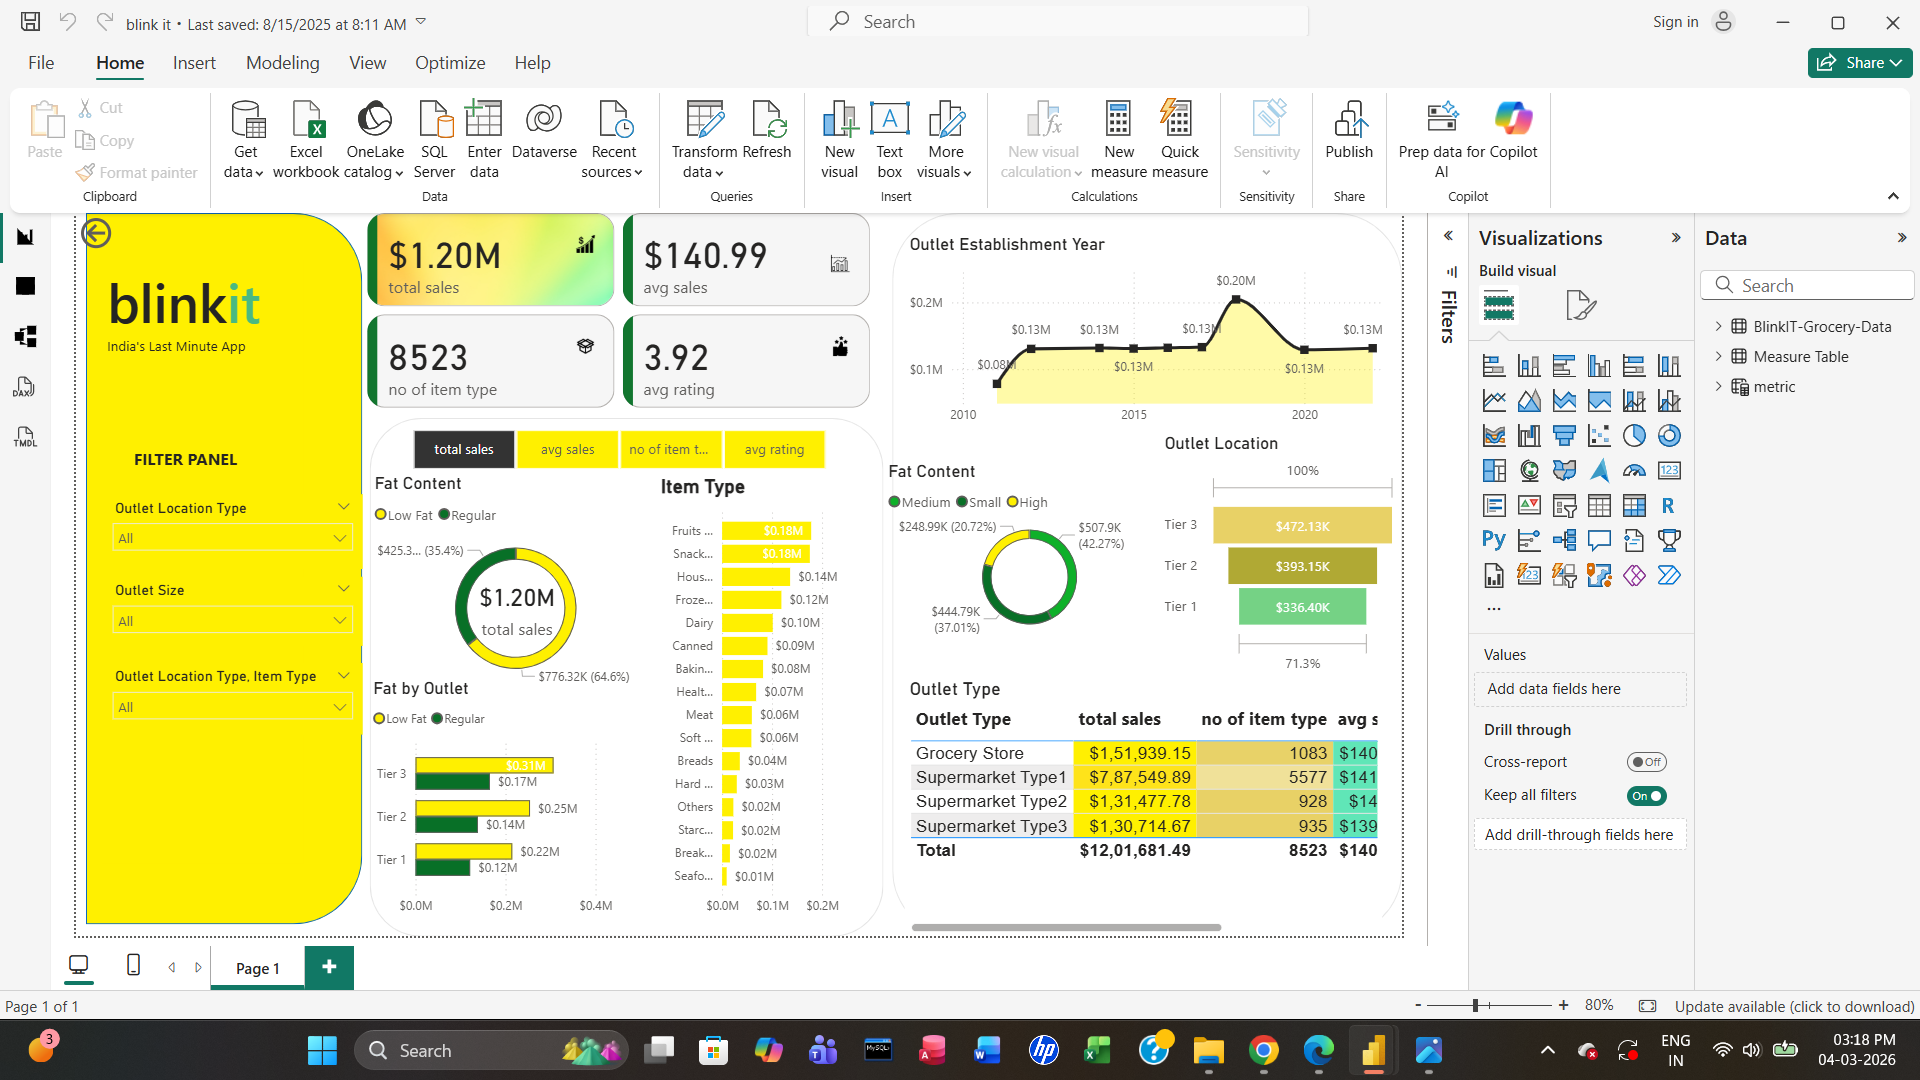

This screenshot's page, from the dashboard's own definition file:
{"tool":"powerbi","page":{"name":"Page 1","canvas":[1320,720],"ordinal":0},"visuals":[{"type":"shape","box":[10,0,274.9,707.8],"z":0},{"type":"textbox","box":[26.1,46.7,200.3,599.7],"z":1000},{"type":"slicer","fields":{"Values":["BlinkIT-Grocery-Data.Outlet Location Type"]},"box":[26.1,279.9,259.3,74.1],"z":2000},{"type":"slicer","fields":{"Values":["BlinkIT-Grocery-Data.Outlet Size"]},"box":[26.1,362.3,259.3,68.6],"z":3000},{"type":"slicer","fields":{"Values":["BlinkIT-Grocery-Data.Outlet Location Type","BlinkIT-Grocery-Data.Item Type"]},"box":[26.1,447.3,259.3,71.4],"z":4000},{"type":"cardVisual","fields":{"Data":["Measure Table.total sales","Measure Table.avg sales","Measure Table.no of item type","Measure Table.avg rating"]},"box":[289.8,0,500.1,194.1],"z":5000},{"type":"shape","box":[292.3,204,511.3,516.2],"z":6000},{"type":"actionButton","box":[0,0,100,40],"z":7000},{"type":"slicer","fields":{"Values":["metric.metric"]},"box":[309.7,209,460.3,52.2],"z":8000},{"type":"donutChart","title":" Fat Content","fields":{"Category":["BlinkIT-Grocery-Data.Item Fat Content"],"Y":["Sum(BlinkIT-Grocery-Data.Sales)"]},"box":[292.3,258.7,291.1,218.9],"z":9000},{"type":"card","fields":{"Values":["Measure Table.total sales"]},"box":[379.4,357,119.4,70.9],"z":10000},{"type":"clusteredBarChart","title":"Fat by Outlet","fields":{"Y":["Measure Table.total sales"],"Category":["BlinkIT-Grocery-Data.Outlet Location Type"],"Series":["BlinkIT-Grocery-Data.Item Fat Content"]},"box":[291.1,462.8,252.5,245.1],"z":11000},{"type":"clusteredBarChart","title":"Item Type","fields":{"Y":["Measure Table.total sales"],"Category":["BlinkIT-Grocery-Data.Item Type"]},"box":[577.2,261.2,214,446.6],"z":12000},{"type":"shape","box":[812.3,0,507.5,720.3],"z":13000},{"type":"lineChart","title":" Outlet Establishment Year","fields":{"Y":["Measure Table.total sales"],"Category":["BlinkIT-Grocery-Data.Outlet Establishment Year"]},"box":[824.7,21.1,483.9,197.8],"z":14000},{"type":"donutChart","title":" Fat Content","fields":{"Y":["Sum(BlinkIT-Grocery-Data.Sales)"],"Category":["BlinkIT-Grocery-Data.Outlet Size"]},"box":[803.6,246.3,291.1,181.6],"z":15000},{"type":"funnel","title":" Outlet Location ","fields":{"Y":["Measure Table.total sales"],"Category":["BlinkIT-Grocery-Data.Outlet Location Type"]},"box":[1078.5,218.9,241.3,243.8],"z":16000},{"type":"tableEx","title":"Outlet Type","fields":{"Values":["BlinkIT-Grocery-Data.Outlet Type","Measure Table.total sales","Measure Table.no of item type","Measure Table.avg sales","Measure Table.avg rating"]},"box":[824.7,462.8,475,258],"z":17000}]}

Visuals, with their boxes on the page's 1320x720 design canvas (x1, y1, x2, y2). These are canvas units, not pixel positions in the 1920x1080 screenshot, which may show the page scaled, cropped or inside an application window:
shape: detection(10, 0, 285, 708)
textbox: detection(26, 47, 226, 646)
slicer - BlinkIT-Grocery-Data.Outlet Location Type: detection(26, 280, 285, 354)
slicer - BlinkIT-Grocery-Data.Outlet Size: detection(26, 362, 285, 431)
slicer - BlinkIT-Grocery-Data.Outlet Location Type x BlinkIT-Grocery-Data.Item Type: detection(26, 447, 285, 519)
cardVisual - Measure Table.total sales x Measure Table.avg sales: detection(290, 0, 790, 194)
shape: detection(292, 204, 804, 720)
actionButton: detection(0, 0, 100, 40)
slicer - metric.metric: detection(310, 209, 770, 261)
" Fat Content" donutChart: detection(292, 259, 583, 478)
card - Measure Table.total sales: detection(379, 357, 499, 428)
"Fat by Outlet" clusteredBarChart: detection(291, 463, 544, 708)
"Item Type" clusteredBarChart: detection(577, 261, 791, 708)
shape: detection(812, 0, 1320, 720)
" Outlet Establishment Year" lineChart: detection(825, 21, 1309, 219)
" Fat Content" donutChart: detection(804, 246, 1095, 428)
" Outlet Location " funnel: detection(1078, 219, 1320, 463)
"Outlet Type" tableEx: detection(825, 463, 1300, 721)
